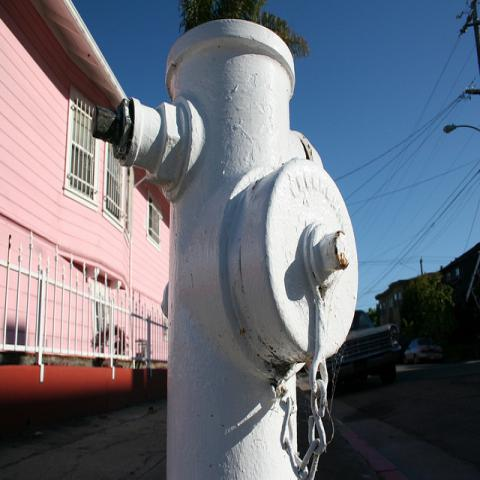car: (325, 310, 404, 385), (405, 339, 442, 362)
